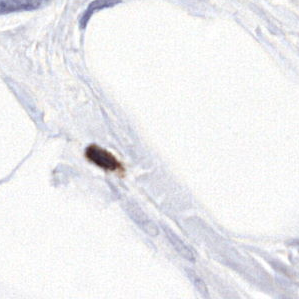Lymphocyte: (84, 140, 122, 174)
